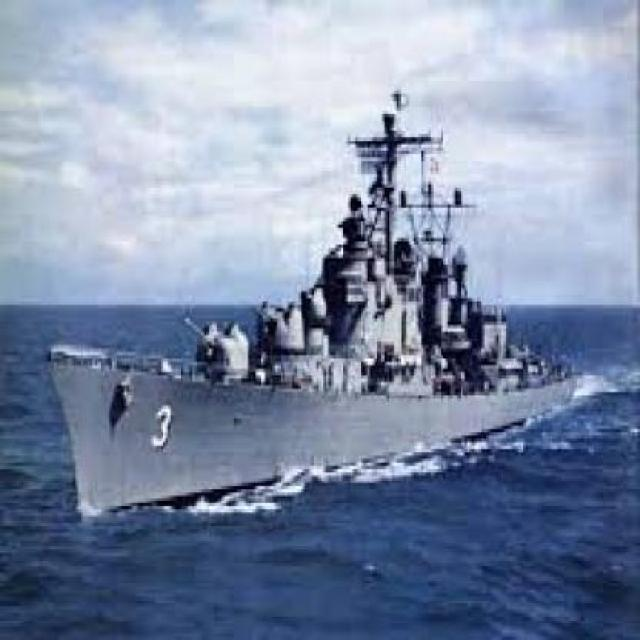warship2: (35, 65, 615, 537)
